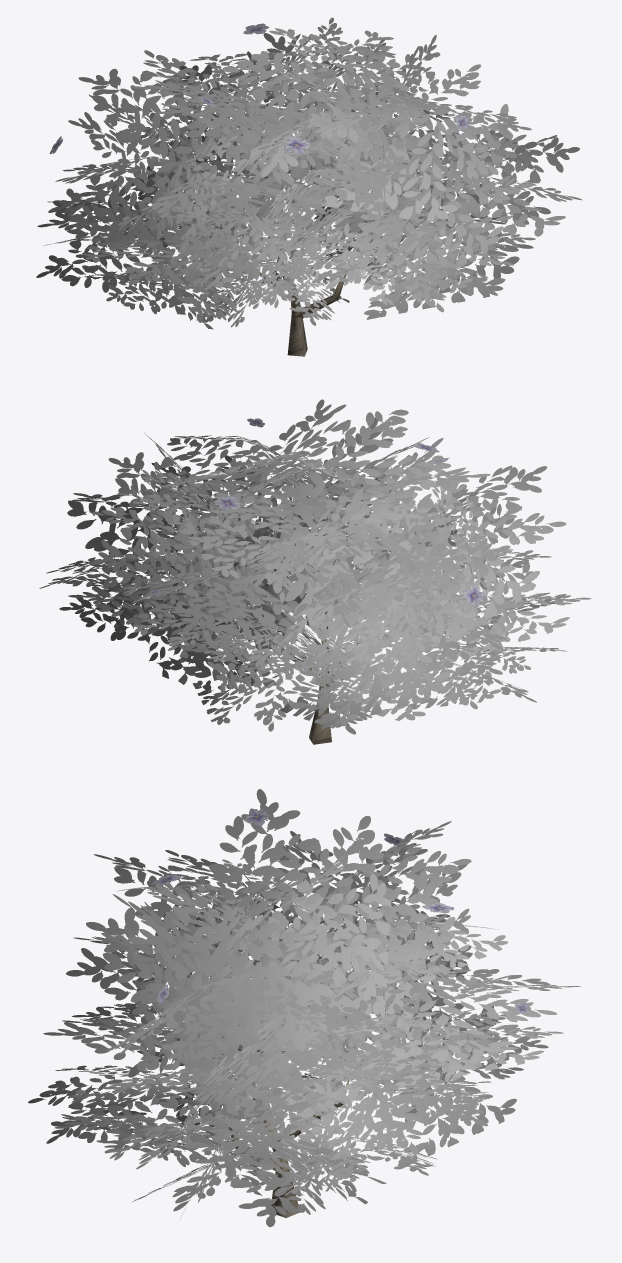
Rendered from SM_Com_Shr_05AS.fbx.
3 views of the same model, one above another, from view 1: azimuth 30°, elevation 25°; view 2: azimuth 150°, elevation 25°; view 3: azimuth 270°, elevation 25° (orthographic). The views are drawn at different scales.
Visible parts, largest first — view 1: SM_Com_Shr_05AS.mo; view 2: SM_Com_Shr_05AS.mo; view 3: SM_Com_Shr_05AS.mo.
Boxes of the visible parts, x1,y1,x2,y2 form: SM_Com_Shr_05AS.mo: (36, 17, 581, 356); SM_Com_Shr_05AS.mo: (39, 399, 591, 744); SM_Com_Shr_05AS.mo: (28, 789, 581, 1227).
Bounding box in the file's own units: 2.65 × 1.41 × 2.11.
